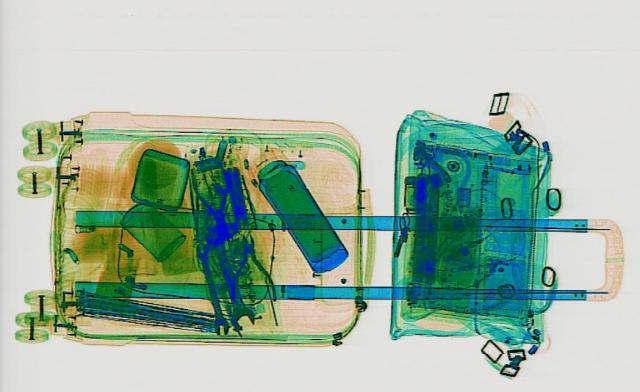Pliers: (212, 232, 276, 301), (188, 164, 244, 238)
Wrench: (202, 233, 256, 328), (192, 240, 230, 335)
